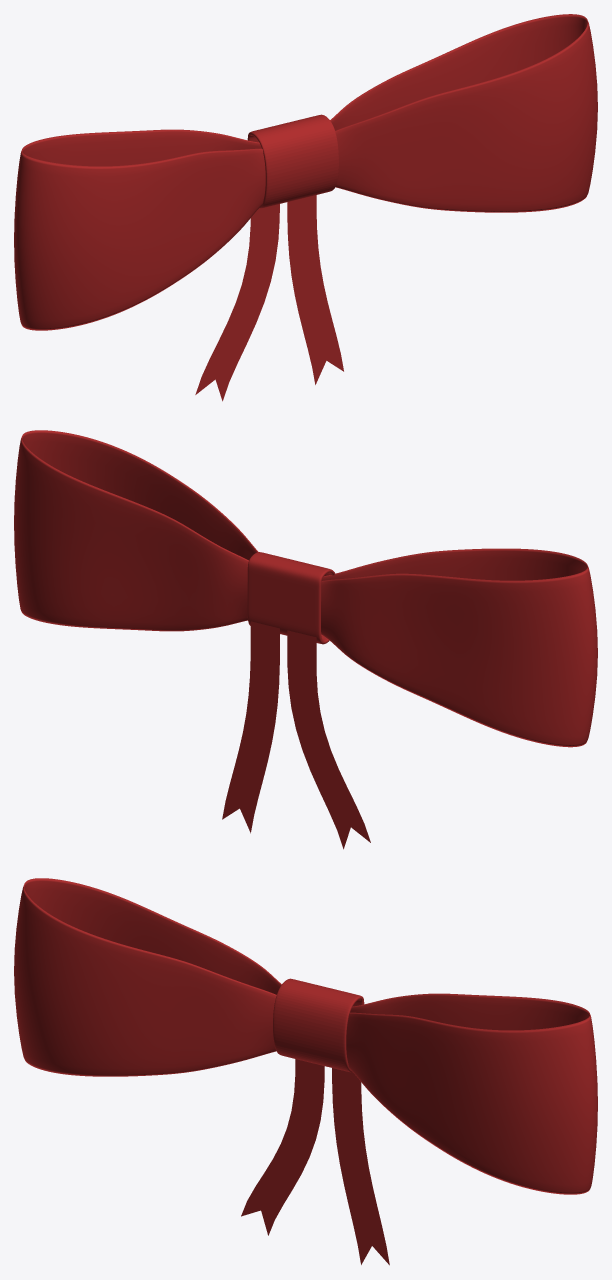
The model's file is bow1.glb.
3 views of the same model, one above another, from view 1: azimuth 30°, elevation 25°; view 2: azimuth 150°, elevation 25°; view 3: azimuth 330°, elevation 25° (orthographic).
Visible parts, largest first — view 1: bow ears, bow tail, bow knot; view 2: bow ears, bow tail, bow knot; view 3: bow ears, bow tail, bow knot.
Part boxes in pixels (x1,y1,x2,y2): bow ears: [14, 14, 597, 330]; bow tail: [195, 195, 343, 401]; bow knot: [247, 114, 338, 208]; bow ears: [14, 430, 597, 747]; bow tail: [222, 621, 370, 849]; bow knot: [247, 552, 333, 644]; bow ears: [14, 878, 597, 1194]; bow tail: [241, 1059, 389, 1265]; bow knot: [273, 978, 364, 1072].
Size of the model in its own units: 3.96 by 2.12 by 0.5517.
